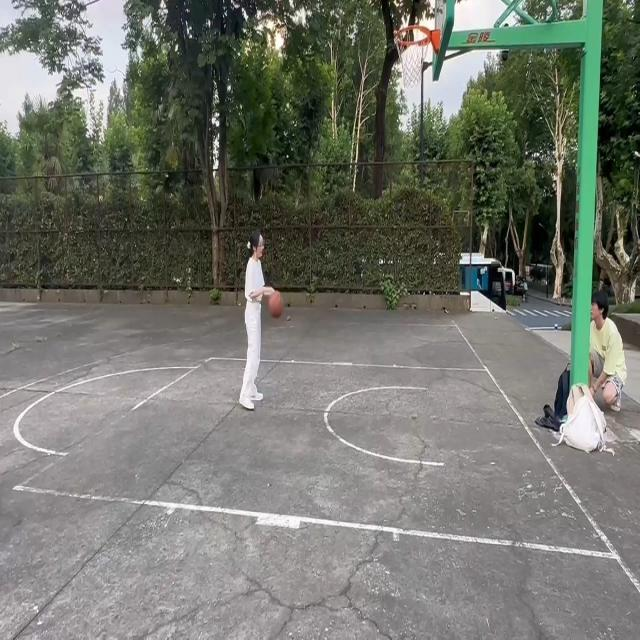basketball: (395, 24, 437, 86)
rim: (270, 293, 284, 319)
